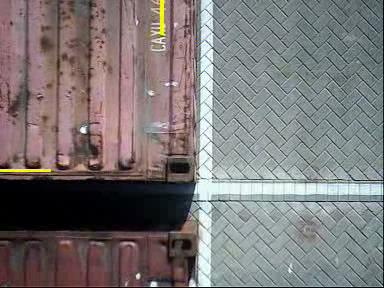groundmarker_2: (102, 76, 169, 112), (104, 222, 171, 258)
